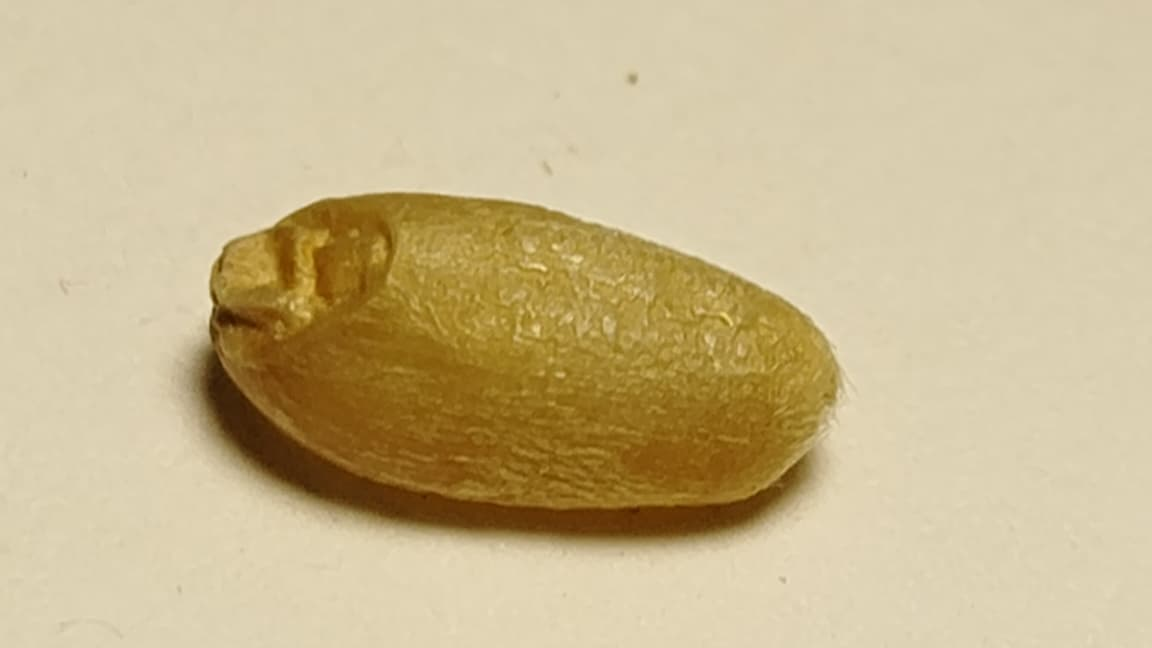healthy: (213, 193, 837, 505)
